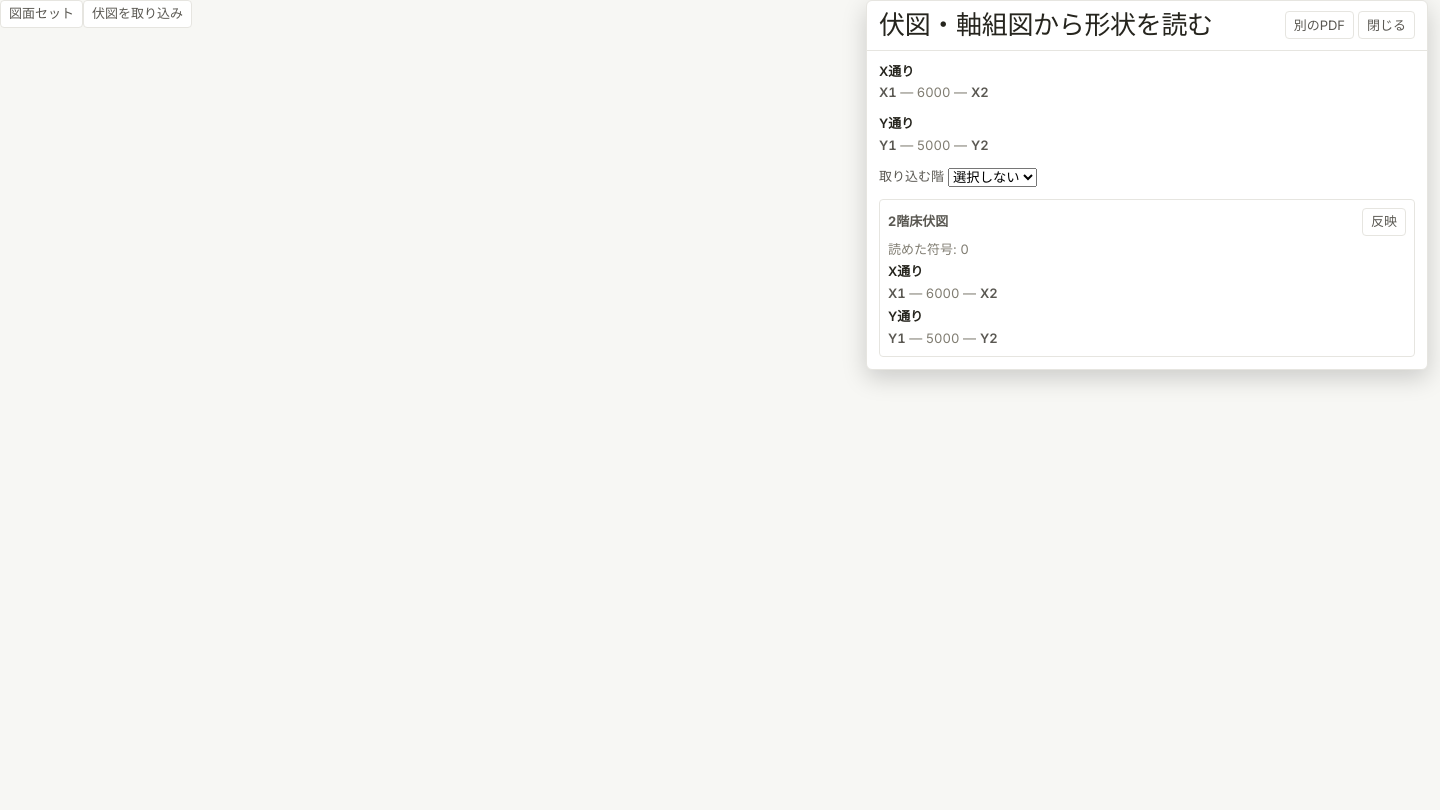
Test: PlanImport › 제목의 階와 정확히 일치하는 Story를 반영 시 자동 선택하고 근거를 보인다
The width and height of the screenshot is (1440, 810).
Check: the dropdown with test id "plan-import-story" shows "選択しない", box [948,168,1037,186]
What coordinates should you click on to do the following:
click the button with test id "plan-import-apply-0"
I would click on:
 (1384, 222)
Its box is [1362,208,1406,236].
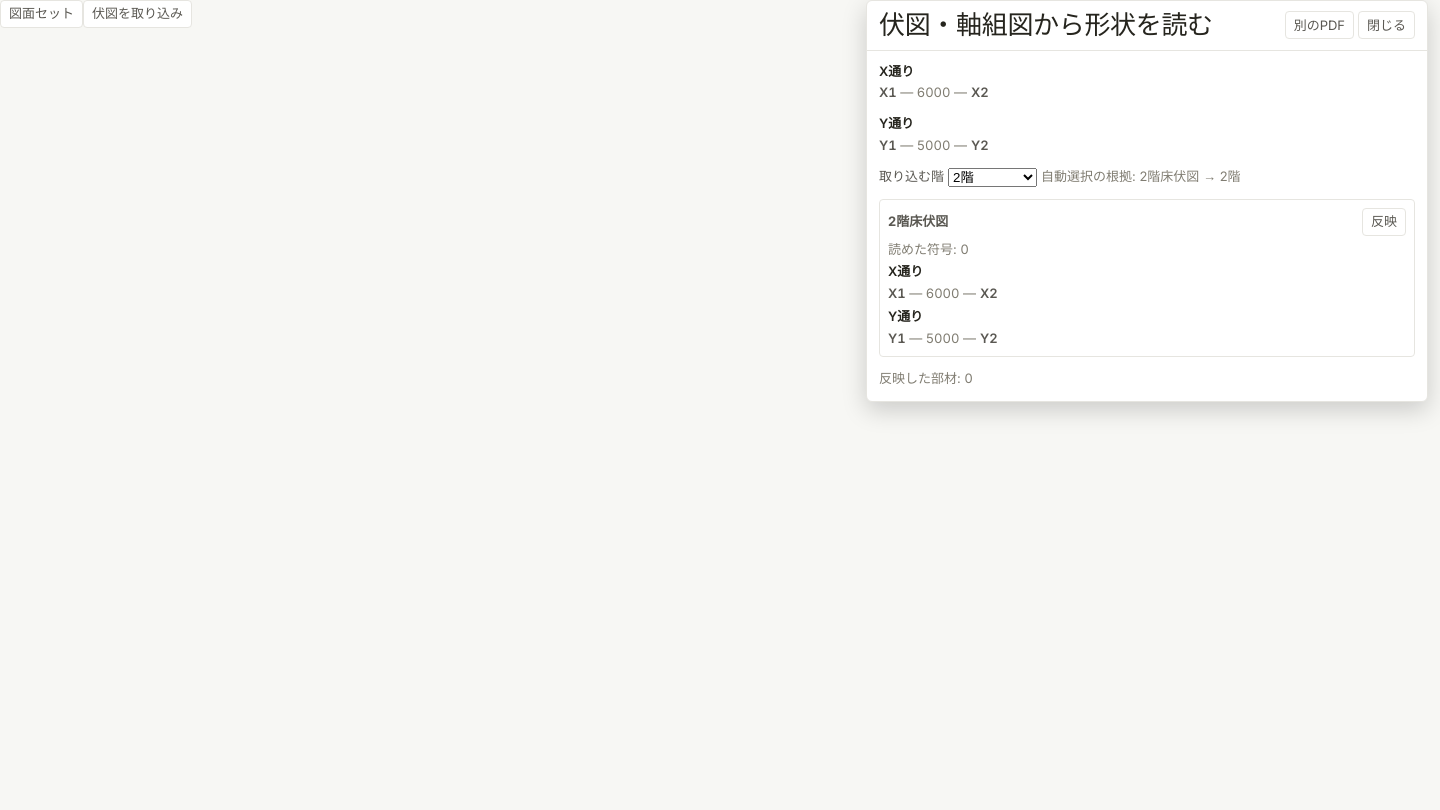
Check: the dropdown with test id "plan-import-story" shows "2階", box [948,168,1037,186]
Check: the text with test id "plan-import-story-evidence" shows "2階床伏図", box [1041,168,1241,184]
Check: the text with test id "plan-import-story-evidence" shows "2階", box [1041,167,1241,187]
